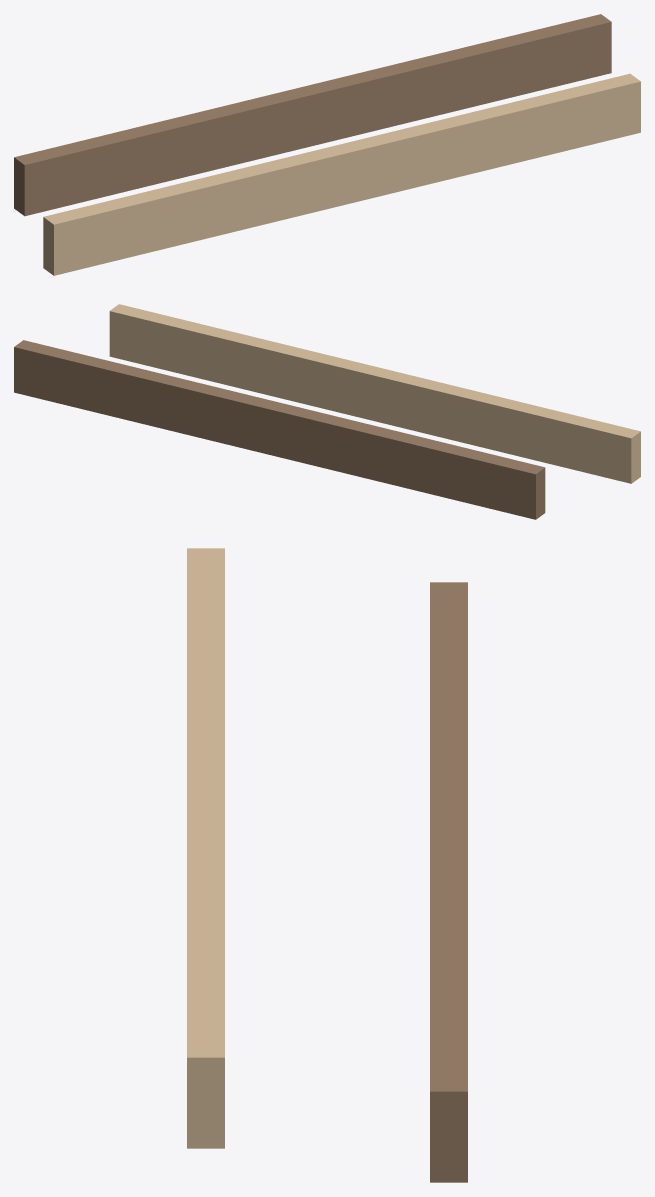
Rendered from prop-winding-stick-pair-ws1.fbx.
The picture shows the model from 3 angles, top to bottom: view 1: azimuth 30°, elevation 25°; view 2: azimuth 150°, elevation 25°; view 3: azimuth 270°, elevation 25°; orthographic projection. The views are drawn at different scales.
Visible parts, largest first — view 1: prop-winding-stick-pair-ws1; view 2: prop-winding-stick-pair-ws1; view 3: prop-winding-stick-pair-ws1.
Part boxes in pixels (<box>): prop-winding-stick-pair-ws1: <box>14,14,640,275</box>; prop-winding-stick-pair-ws1: <box>14,304,640,519</box>; prop-winding-stick-pair-ws1: <box>187,548,467,1182</box>.
Bounding box in the file's own units: 64 × 5 × 14.
